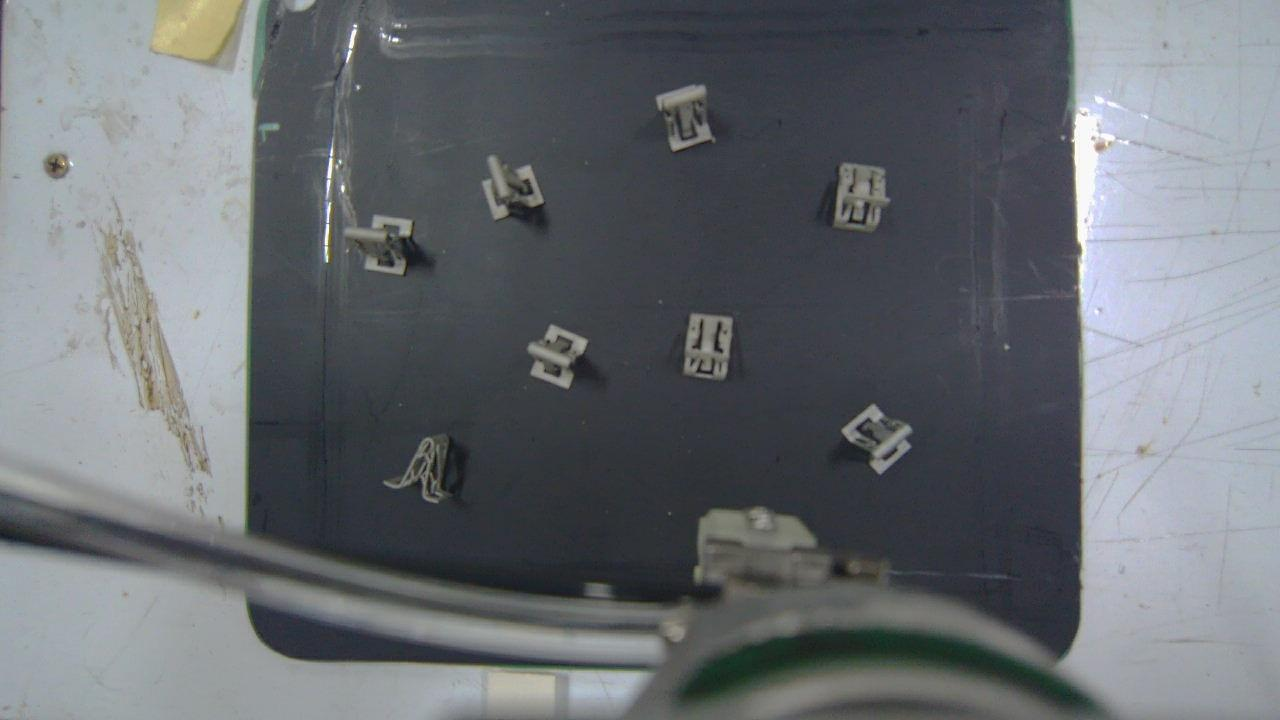ng: (843, 401, 914, 477), (384, 433, 451, 504), (657, 83, 713, 154), (832, 163, 890, 230), (684, 313, 732, 380)
pass: (343, 215, 413, 277), (481, 155, 544, 220), (526, 324, 588, 388)
